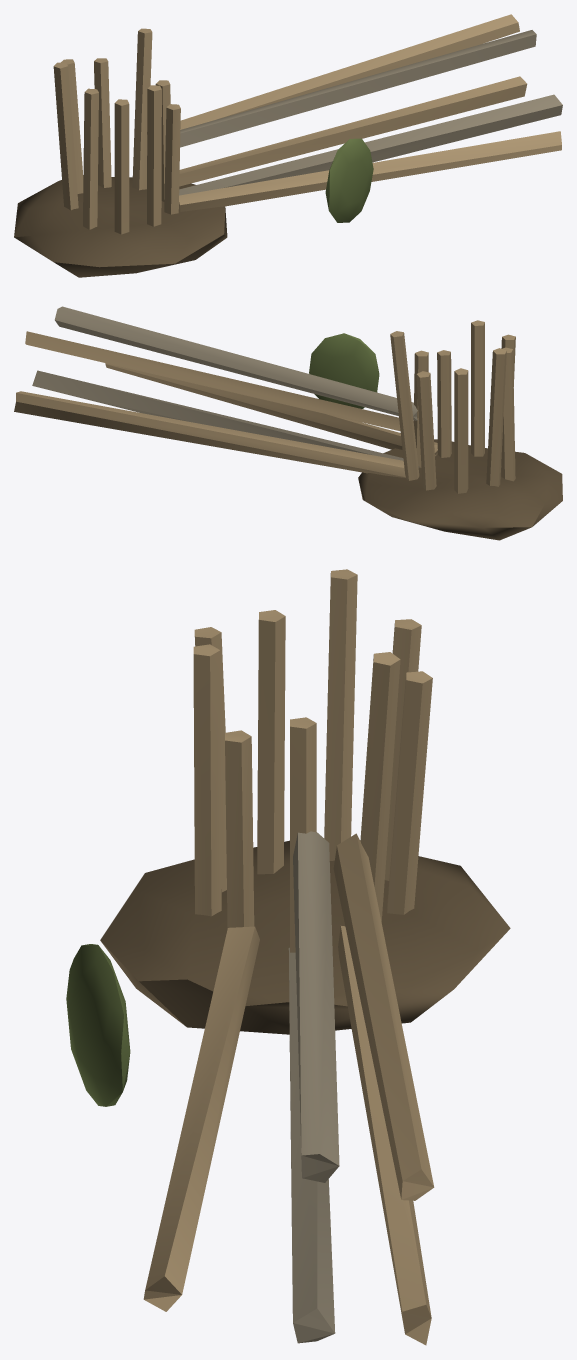
Rendered from saguaro_bones_b.glb.
3 renders of one model, top to bottom at view 1: azimuth 30°, elevation 25°; view 2: azimuth 150°, elevation 25°; view 3: azimuth 270°, elevation 25°, orthographic. The views are drawn at different scales.
Parts seen in each view (by area): view 1: Surface; view 2: Surface; view 3: Surface.
Boxes of the visible parts, x1=… form: Surface: x1=14, y1=14, x2=562, y2=277; Surface: x1=14, y1=306, x2=562, y2=540; Surface: x1=66, y1=569, x2=510, y2=1345.
Bounding box in the file's own units: 3.18 × 1.09 × 1.2.
